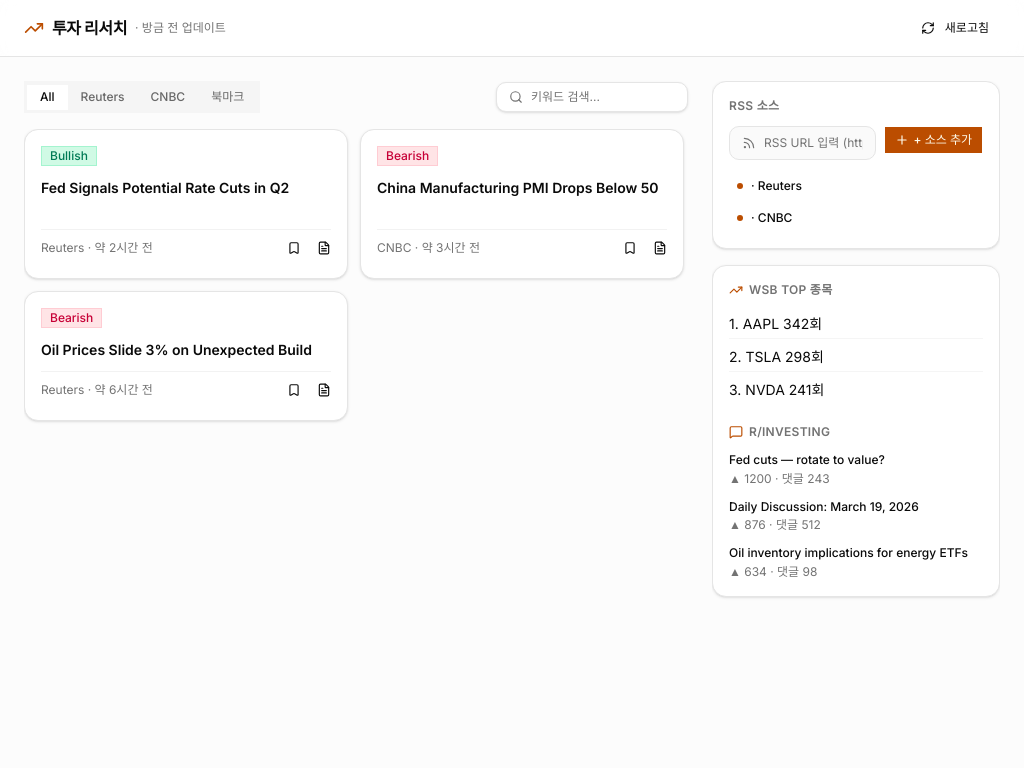
Test: RSSDASH-002: RSS 소스 추가 — 유효한 URL › 유효한 URL 추가 시 새 소스 탭이 생긴다
The image size is (1024, 768).
Type "https://feeds.financialjuice.com/rss" into the field with placeholder "RSS URL 입력 (https://...)".
click(814, 143); type("https://feeds.financialjuice.com/rss")  # box [764, 135, 863, 151]
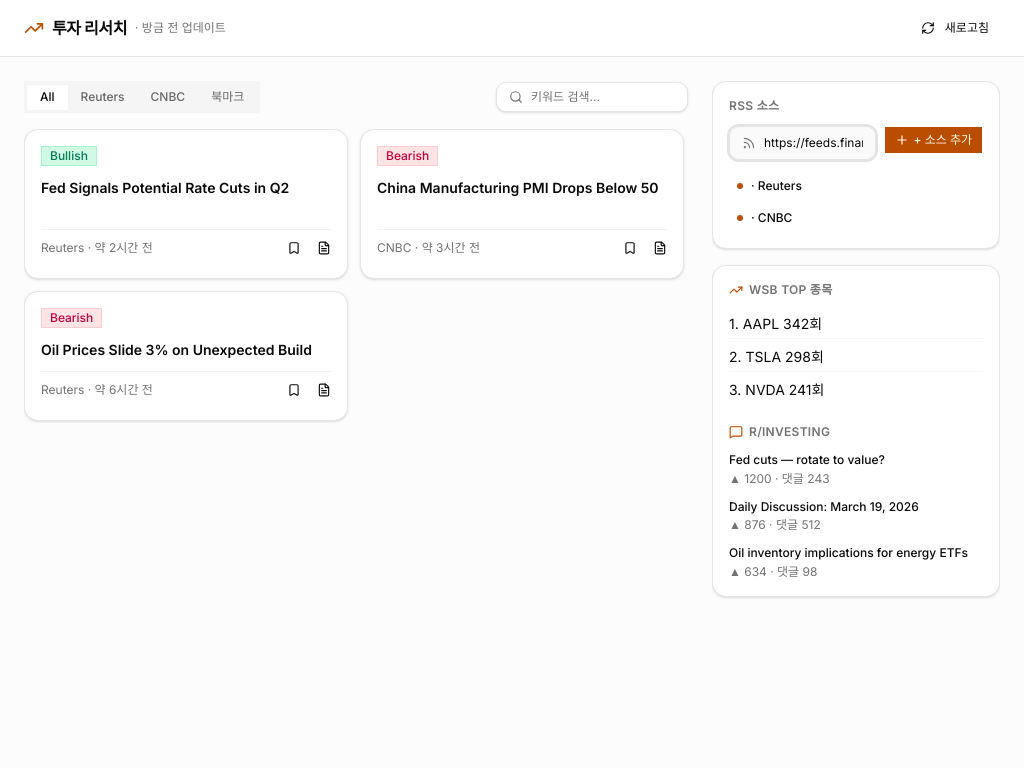
Click the button "+ 소스 추가".
click(934, 140)  # box [884, 126, 983, 154]
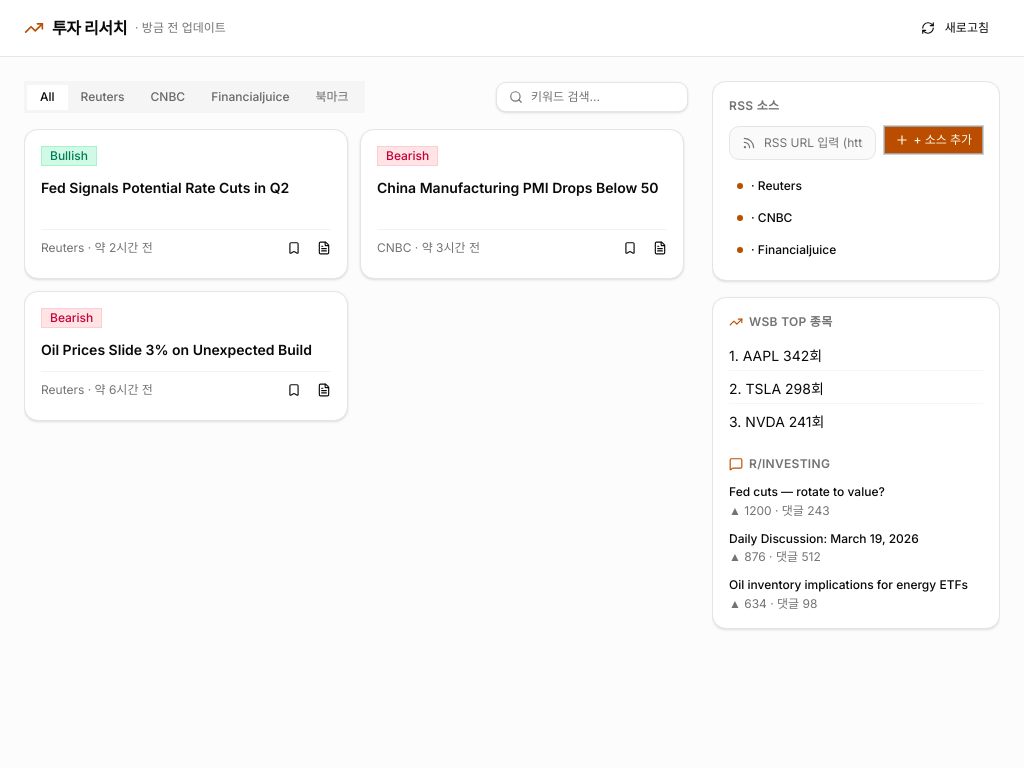
Check: the tab "Financialjuice" is shown, box [198, 84, 302, 110]
